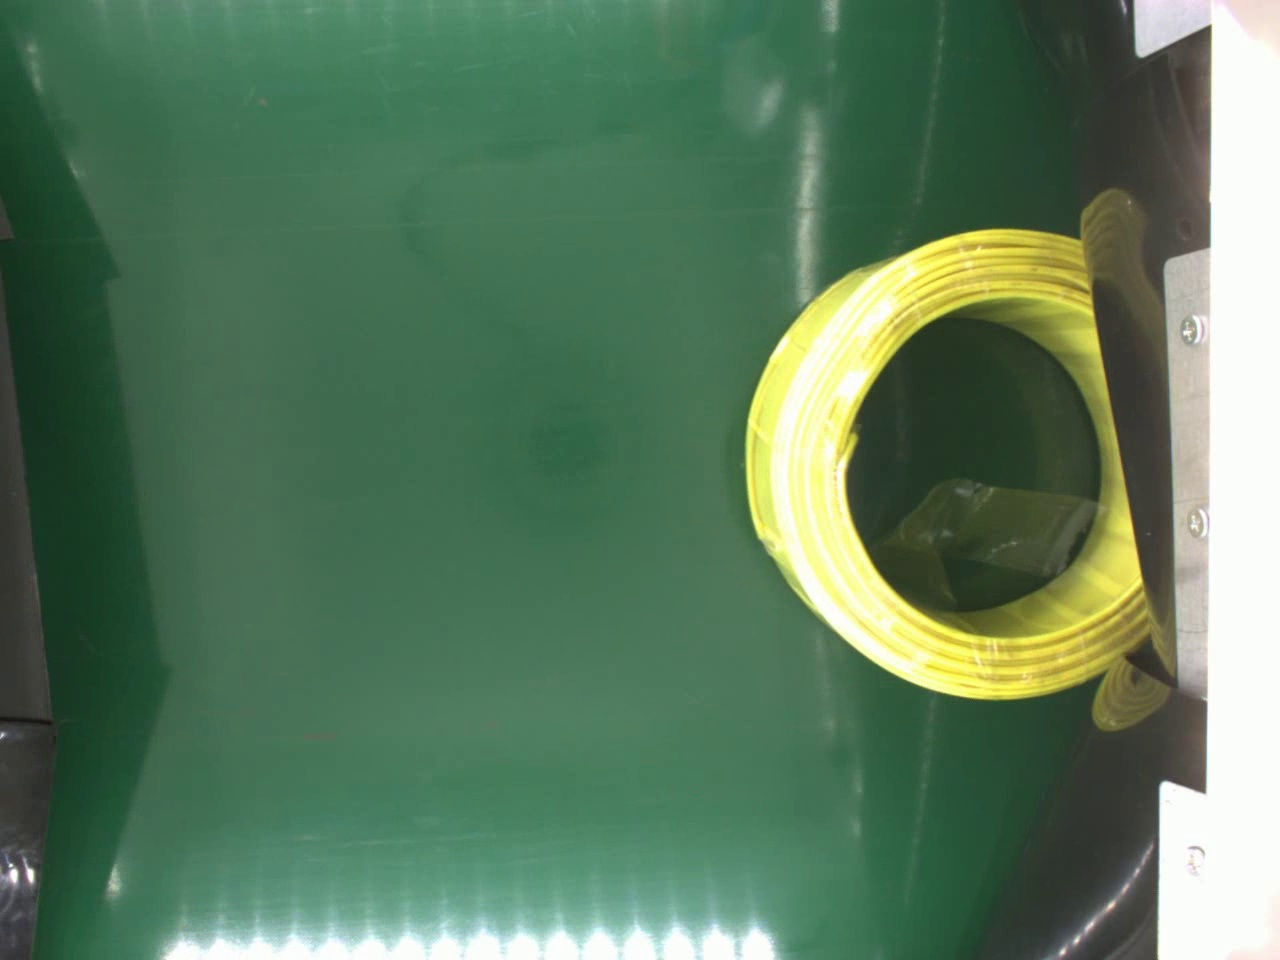yellow: (742, 221, 1143, 702)
